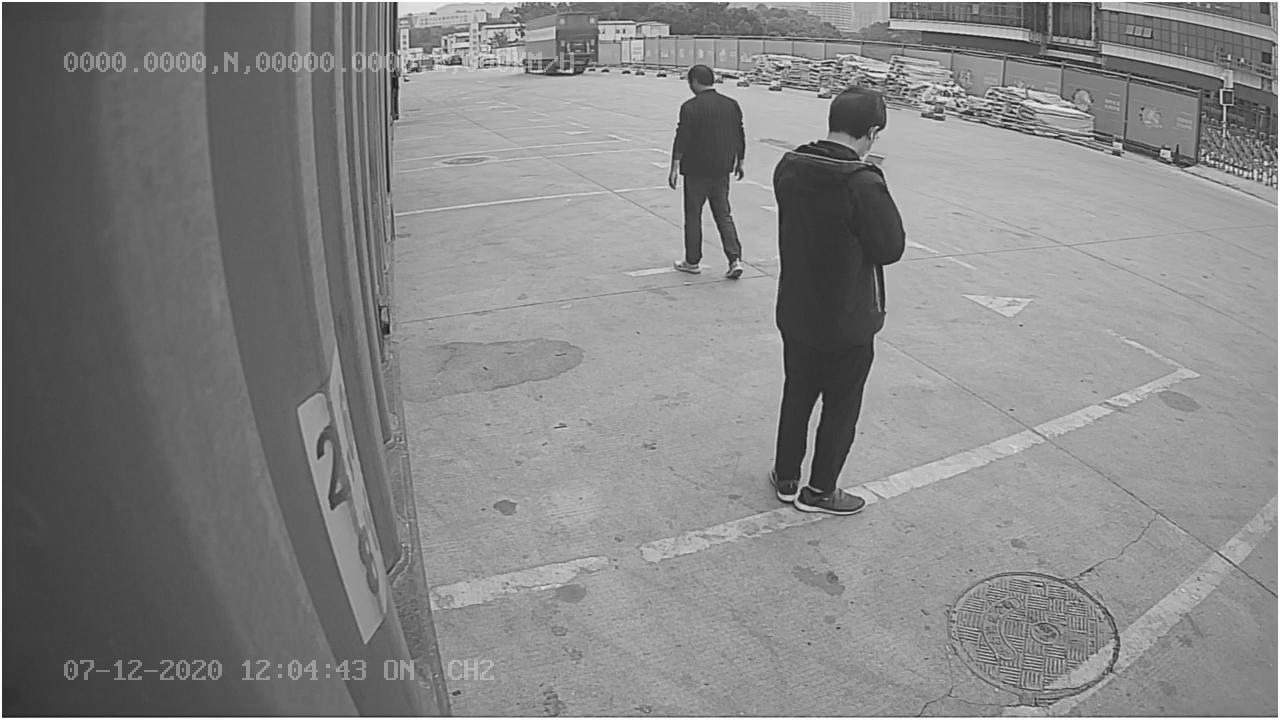person: (769, 82, 907, 517), (659, 59, 752, 283)
